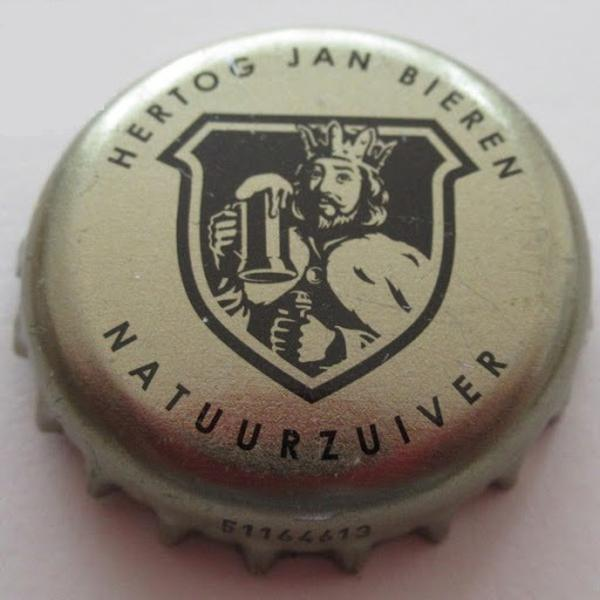hertog jan: (10, 18, 598, 587)
